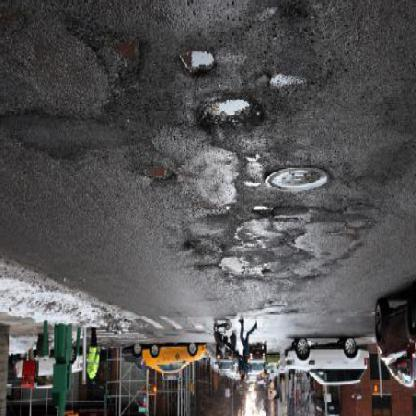pothole: (198, 95, 262, 134), (108, 34, 148, 80), (179, 48, 219, 84), (136, 165, 179, 188), (253, 206, 274, 219)
